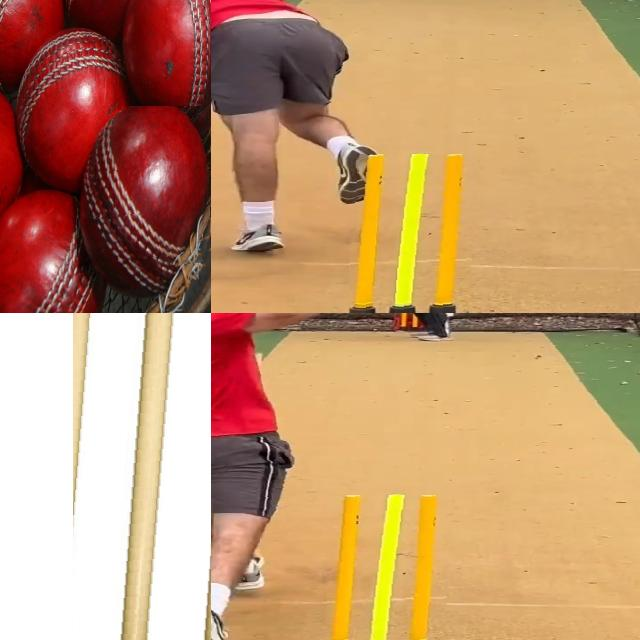Cricket ball: (77, 106, 211, 274)
Stumps: (73, 313, 211, 640), (348, 154, 481, 313), (325, 494, 456, 640)
